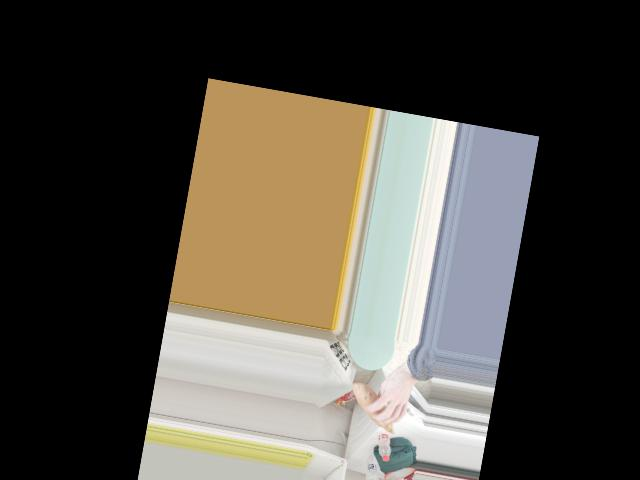sweet_potato: (348, 383, 405, 433)
